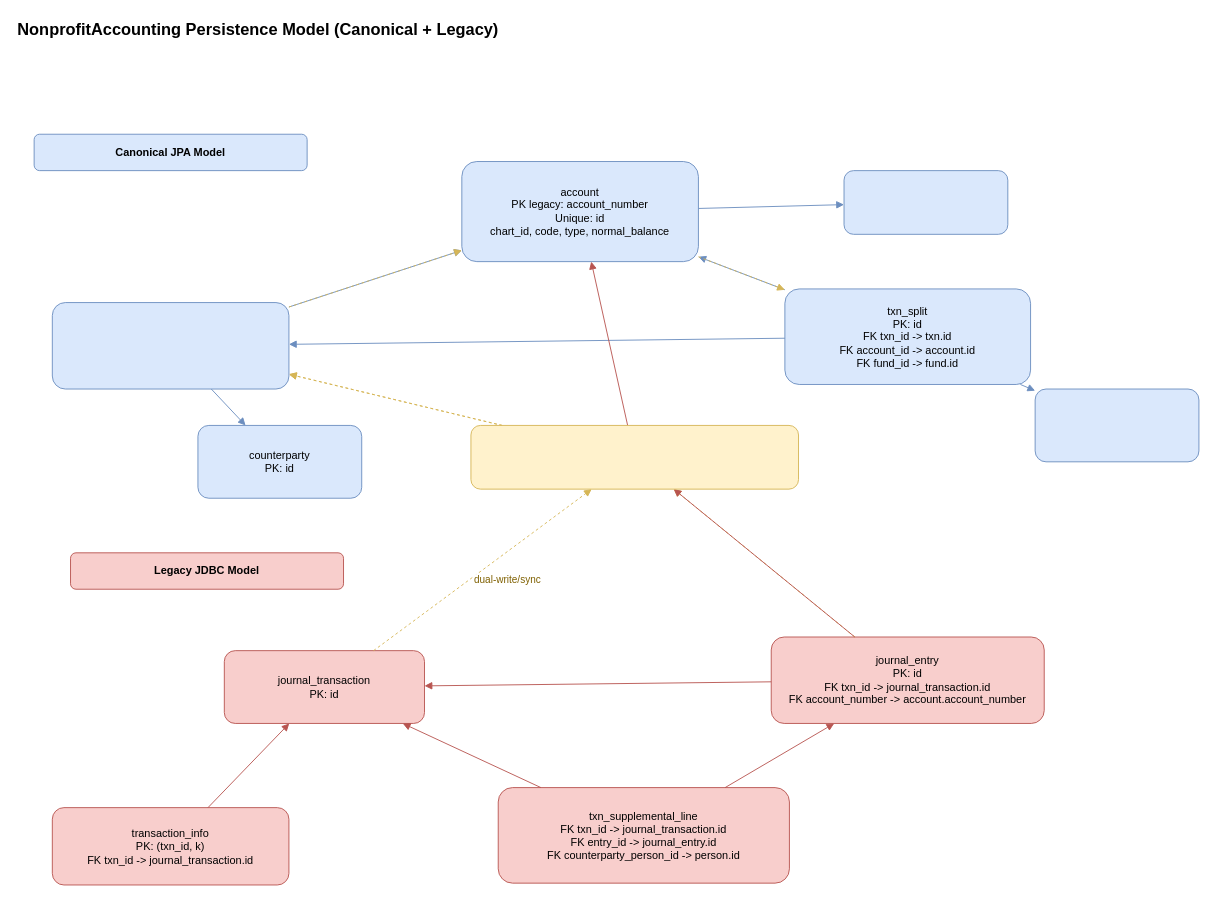
Some shapes in this 1215 by 901 pixel diagram are drawn without their labels. The shapes that lost their labels are listed below. From the top down, each one's centre as x and y in pixels, then its label:
At (x=925, y=202): "chart_of_accounts PK: id".
At (x=170, y=345): "txn PK: id FK payee_id -> counterparty.id FK bank_account_id -> account.id".
At (x=1116, y=425): "fund PK: id Unique: code".
At (x=634, y=457): "CanonicalJournalSyncAdapter syncs legacy journal_* -> txn/txn_split".
